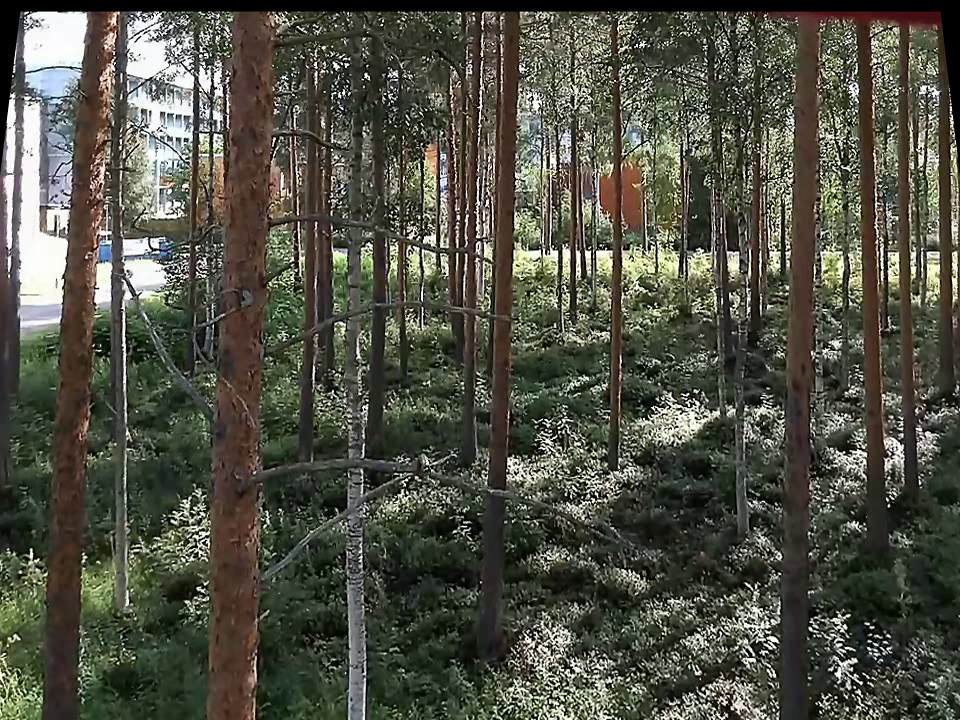branch: (262, 448, 614, 545), (265, 295, 526, 360), (271, 206, 494, 266), (274, 121, 346, 154)
trunk: (28, 12, 125, 716), (196, 15, 278, 714), (472, 15, 532, 652), (777, 33, 820, 715), (849, 27, 895, 562), (885, 47, 932, 489), (334, 184, 373, 713), (599, 28, 630, 461), (106, 131, 134, 610)
